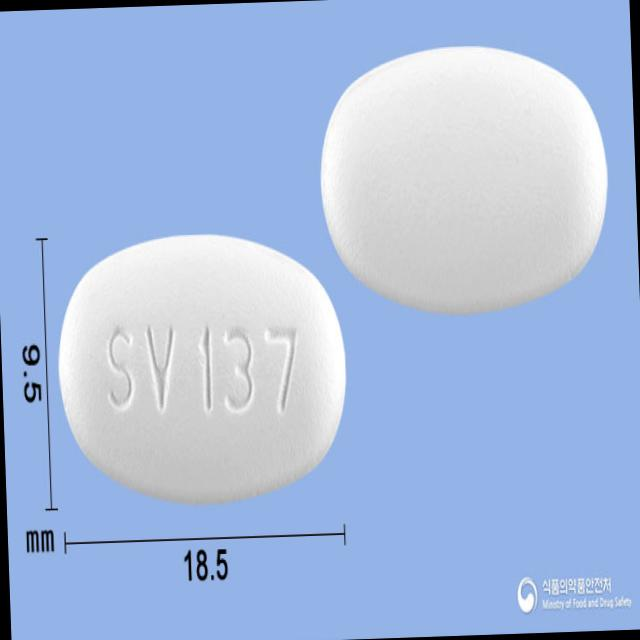Dovato: (54, 227, 350, 509)
